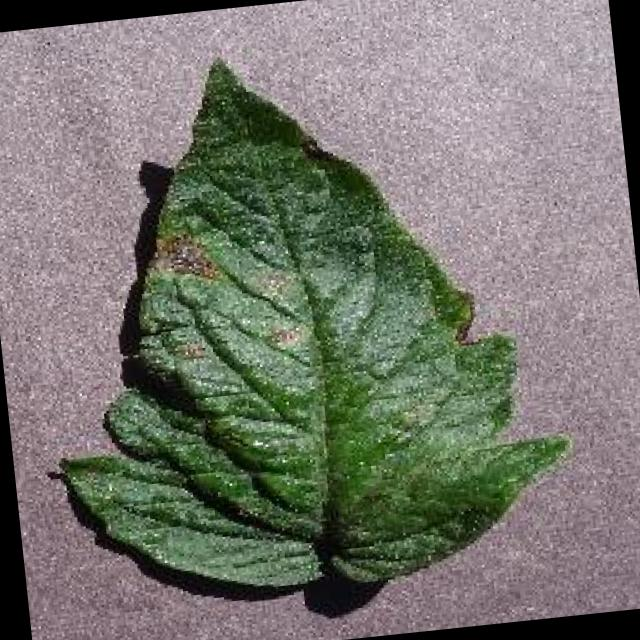Tomato_Early_Blight: (99, 206, 322, 428)
